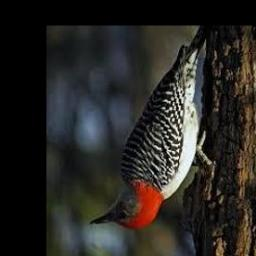Woodpecker: (90, 26, 211, 230)
